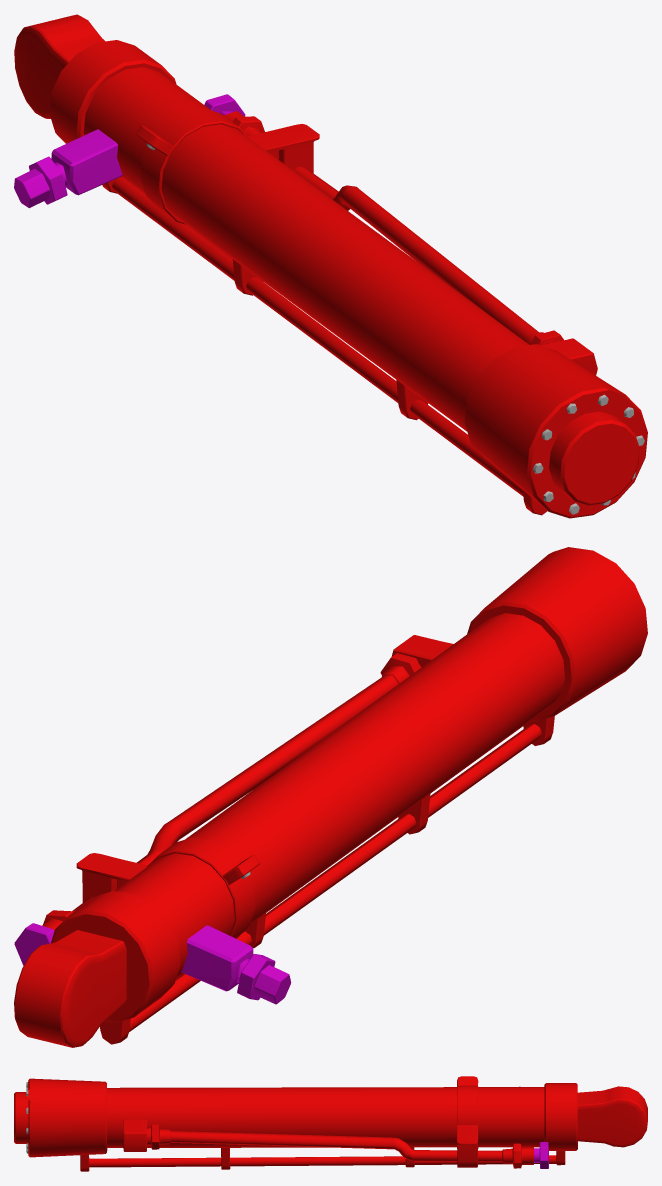
The model's file is ExcavatorMachine_HydraulicCylinder01_01a_snaps005.fbx.
3 views of the same model, one above another, from view 1: azimuth 30°, elevation 25°; view 2: azimuth 150°, elevation 25°; view 3: azimuth 270°, elevation 25° (orthographic). The views are drawn at different scales.
Visible parts, largest first — view 1: ExcavatorMachine_HydraulicCylinder01_01a_snaps005; view 2: ExcavatorMachine_HydraulicCylinder01_01a_snaps005; view 3: ExcavatorMachine_HydraulicCylinder01_01a_snaps005.
Boxes of the visible parts, left/top/right/bottom form: ExcavatorMachine_HydraulicCylinder01_01a_snaps005: left=14, top=14, right=647, bottom=518; ExcavatorMachine_HydraulicCylinder01_01a_snaps005: left=14, top=547, right=647, bottom=1047; ExcavatorMachine_HydraulicCylinder01_01a_snaps005: left=14, top=1076, right=647, bottom=1171.
Size of the model in its own units: 46.05 by 28.08 by 181.
